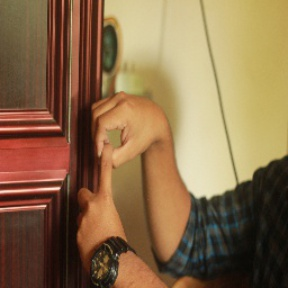Q: (72, 93, 158, 240)
